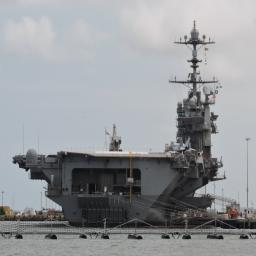Portanaves: (12, 18, 226, 230)
